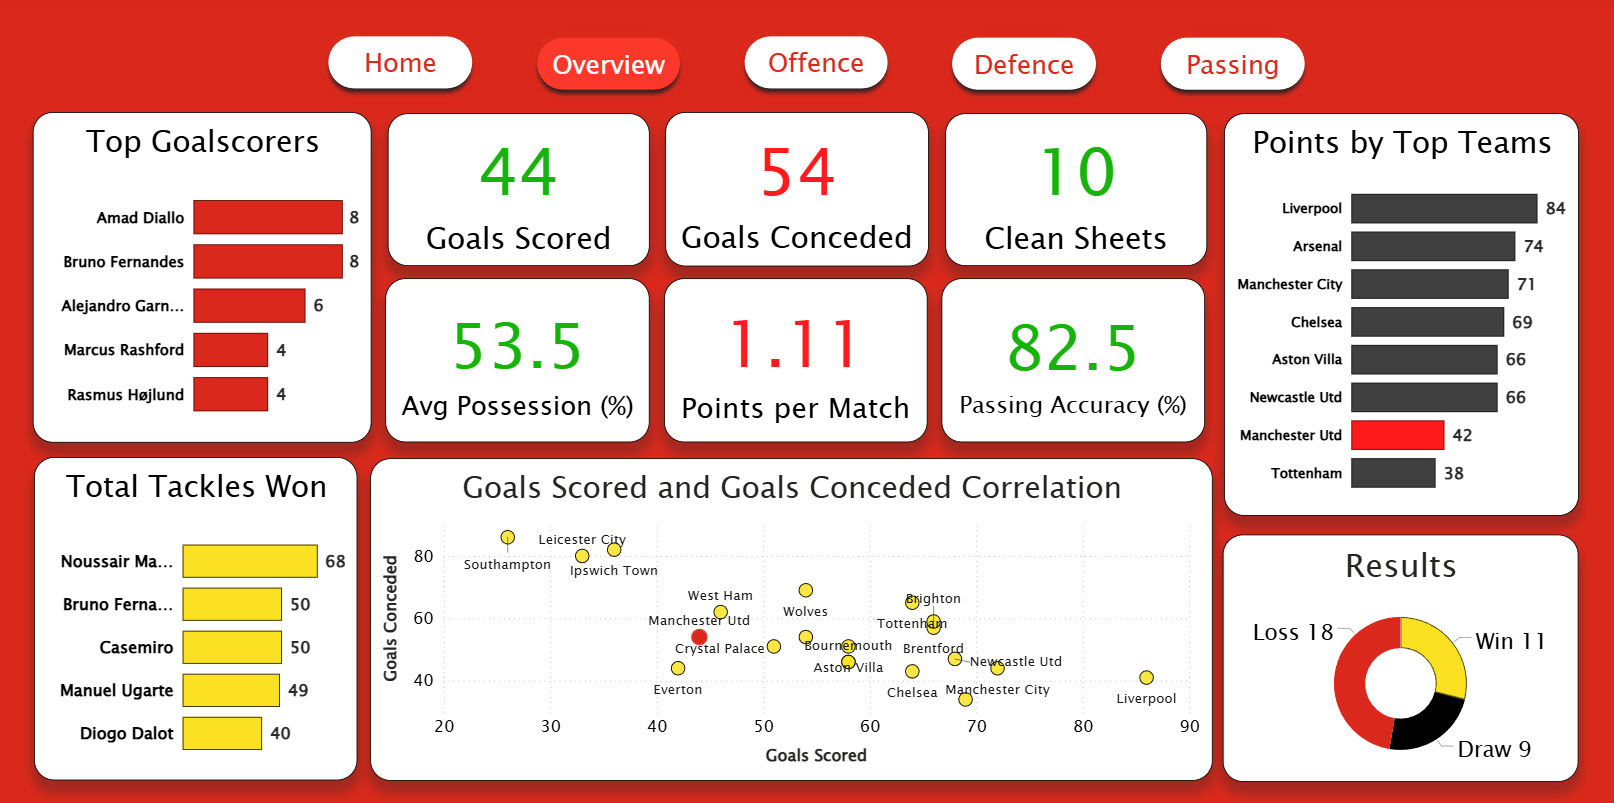

The page's visual inventory and layout, read from the dashboard file:
{"tool":"powerbi","page":{"name":"Overview","canvas":[1600,800],"ordinal":1},"visuals":[{"type":"card","fields":{"Values":["Sum(pl squad overall 24-25.Goals_For)"]},"box":[385.1,115.2,258.8,151.5],"z":0},{"type":"card","fields":{"Values":["Sum(pl squad overall 24-25.Goals_Against)"]},"box":[659.7,113.6,260.4,153.1],"z":1000},{"type":"barChart","title":"Points by Top Teams","fields":{"Category":["pl squad overall 24-25.Squad"],"Y":["Sum(pl squad overall 24-25.Points)"]},"box":[1211.8,115.3,351.2,398.1],"z":2000},{"type":"card","fields":{"Values":["Sum(pl squad stats 24-25.Possession)"]},"box":[381.9,277.8,262,162.6],"z":3000},{"type":"card","fields":{"Values":["Sum(pl squad overall 24-25.Points_Per_Match)"]},"box":[658.1,277.8,260.4,162.6],"z":4000},{"type":"donutChart","title":"Results","fields":{"Y":["Sum(pl squad overall 24-25.Wins)","Sum(pl squad overall 24-25.Draws)","Sum(pl squad overall 24-25.Losses)"]},"box":[1211.4,531.3,351.6,245.1],"z":5000},{"type":"card","fields":{"Values":["Sum(pl gk stats 24-25.Clean_Sheets)"]},"box":[935.9,115.2,258.8,151.5],"z":6000},{"type":"card","fields":{"Values":["Sum(pl passing 24-25.Total_Pass_Completion_Percentage)"]},"box":[932.7,277.8,260.4,162.6],"z":7000},{"type":"barChart","title":"Top Goalscorers","fields":{"Category":["pl utd overall stats 24-25.Player Name"],"Y":["Sum(pl utd overall stats 24-25.Goals)"]},"box":[33.5,113.9,335.1,327.1],"z":8000},{"type":"actionButton","box":[316.4,30,160.9,70],"z":9000},{"type":"actionButton","box":[728.6,30.2,160,70],"z":10000},{"type":"actionButton","box":[934.2,30.4,160.9,70],"z":11000},{"type":"actionButton","box":[522.9,30.8,160,70],"z":12000},{"type":"actionButton","box":[1140.8,30.6,160.9,70],"z":13000},{"type":"barChart","title":"Total Tackles Won","fields":{"Category":["pl utd defensive actions 24-25.Player"],"Y":["Sum(pl utd defensive actions 24-25.Tackles_Won)"]},"box":[34.9,455.8,320.4,320.4],"z":14000},{"type":"scatterChart","title":"Goals Scored and Goals Conceded Correlation","fields":{"X":["Sum(pl squad overall 24-25.Goals_For)"],"Y":["Sum(pl squad overall 24-25.Goals_Against)"],"Category":["pl squad overall 24-25.Squad"]},"box":[367.7,456.1,833.3,318.8],"z":15000}]}

Visuals, with their boxes in screenshot pixels (x1, y1, x2, y2), scaled from the page's 1600x800 canvas onto the 1614x803 screenshot:
card - Sum(pl squad overall 24-25.Goals_For): [388,116,650,268]
card - Sum(pl squad overall 24-25.Goals_Against): [665,114,928,268]
"Points by Top Teams" barChart: [1222,116,1577,515]
card - Sum(pl squad stats 24-25.Possession): [385,279,650,442]
card - Sum(pl squad overall 24-25.Points_Per_Match): [664,279,927,442]
"Results" donutChart: [1222,533,1577,779]
card - Sum(pl gk stats 24-25.Clean_Sheets): [944,116,1205,268]
card - Sum(pl passing 24-25.Total_Pass_Completion_Percentage): [941,279,1204,442]
"Top Goalscorers" barChart: [34,114,372,443]
actionButton: [319,30,481,100]
actionButton: [735,30,896,101]
actionButton: [942,31,1105,101]
actionButton: [527,31,689,101]
actionButton: [1151,31,1313,101]
"Total Tackles Won" barChart: [35,458,358,779]
"Goals Scored and Goals Conceded Correlation" scatterChart: [371,458,1212,778]
